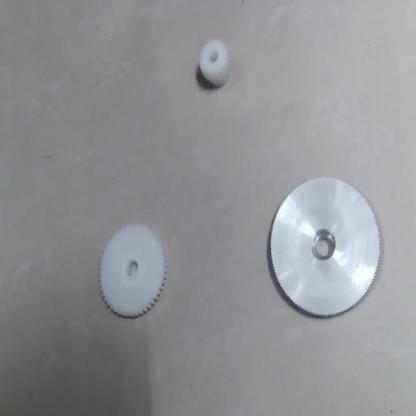FOD: (265, 172, 391, 322), (96, 225, 176, 326), (196, 37, 232, 91)
